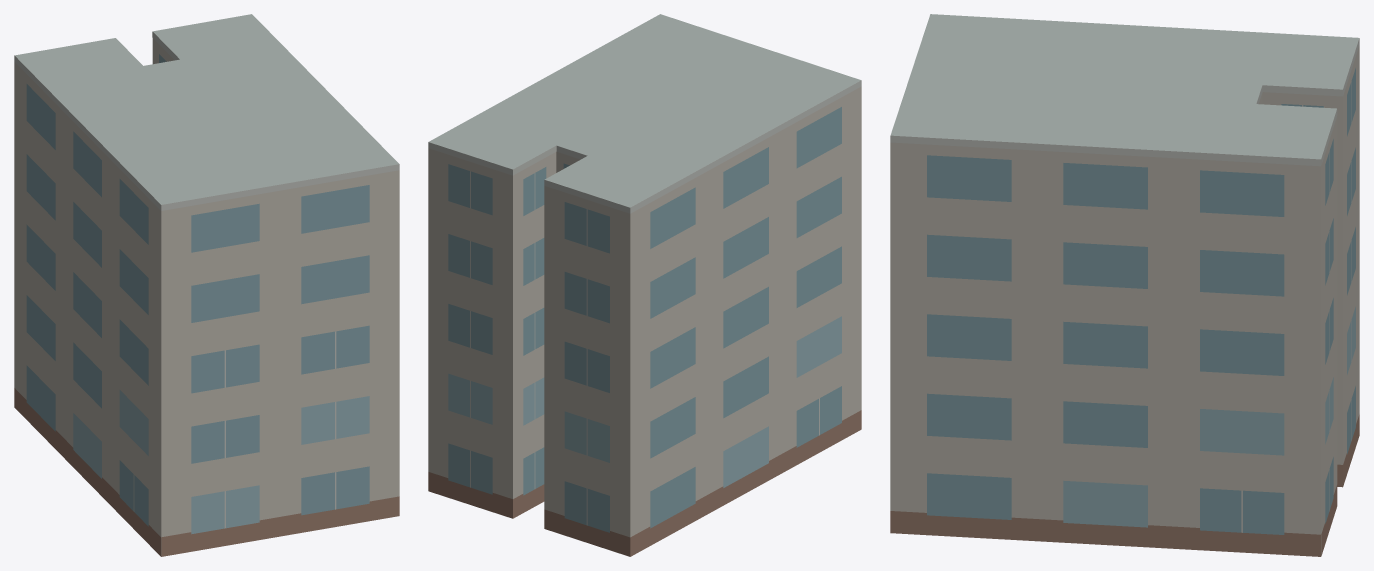
The model's file is survey-upis-32833315.glb.
3 views of the same model, side by side, from view 1: azimuth 30°, elevation 25°; view 2: azimuth 150°, elevation 25°; view 3: azimuth 270°, elevation 25° (orthographic). The views are drawn at different scales.
Visible parts, largest first — view 1: survey-upis-32833315.tmp; view 2: survey-upis-32833315.tmp; view 3: survey-upis-32833315.tmp.
Part boxes in pixels (bbox=[...]): survey-upis-32833315.tmp: bbox=[14, 14, 399, 556]; survey-upis-32833315.tmp: bbox=[428, 14, 861, 556]; survey-upis-32833315.tmp: bbox=[890, 14, 1359, 556].
Bounding box in the file's own units: 11.07 × 14.1 × 15.09.
